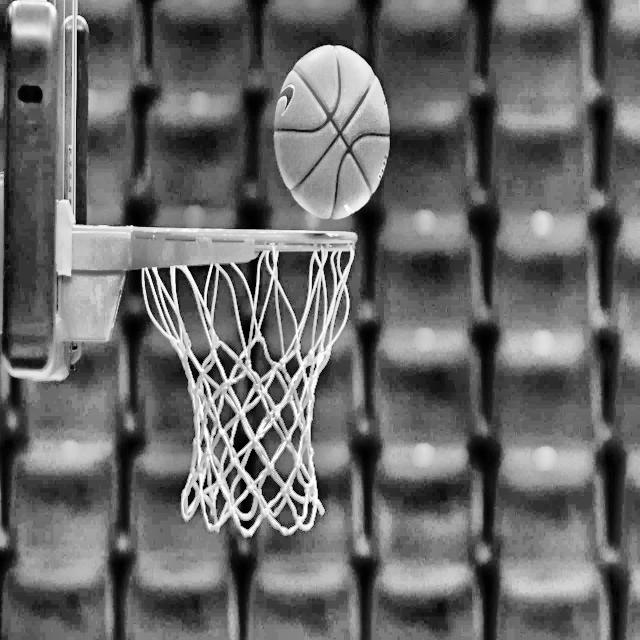Basketball: (274, 44, 390, 218)
